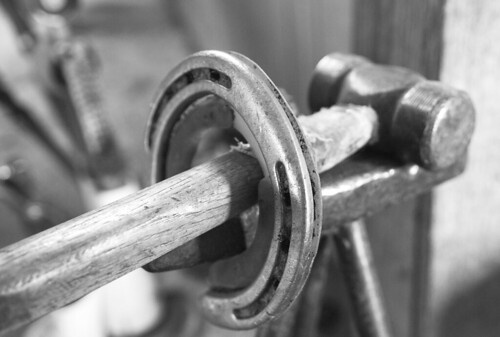hammer: (1, 52, 476, 324)
